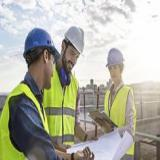Helmet: (23, 27, 61, 63), (64, 26, 86, 58), (105, 48, 125, 68)
Vest: (0, 81, 51, 160), (40, 62, 79, 160), (105, 84, 136, 160)
